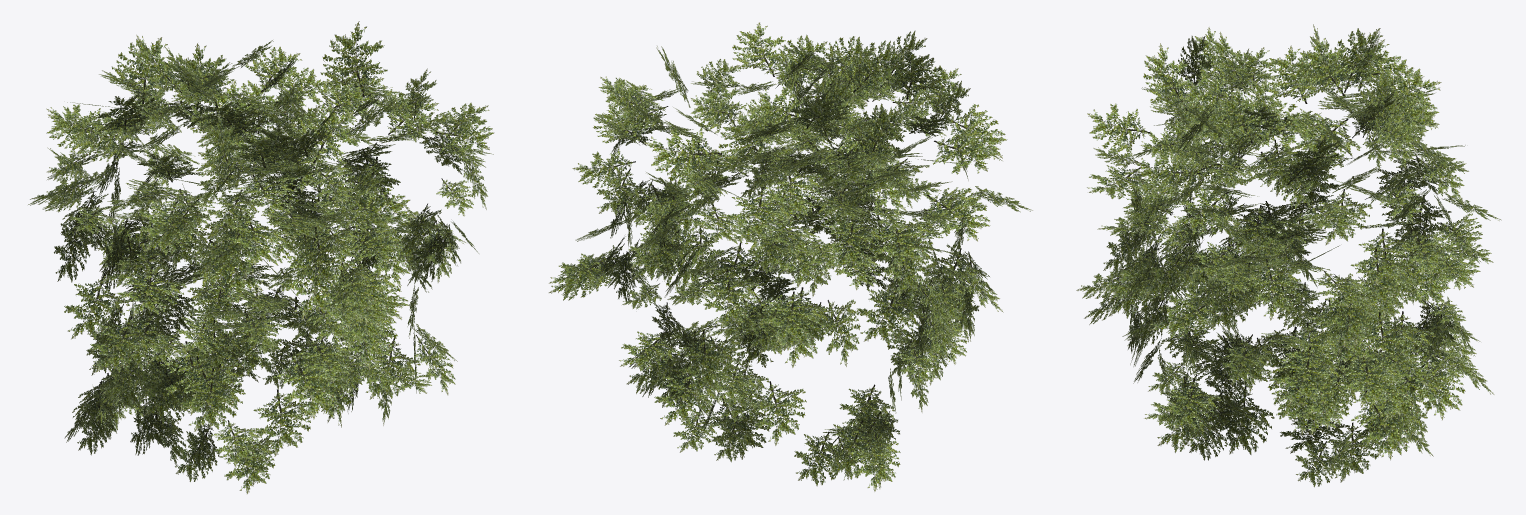
The model's file is leaves.dae.
3 views of the same model, side by side, from view 1: azimuth 30°, elevation 25°; view 2: azimuth 150°, elevation 25°; view 3: azimuth 270°, elevation 25° (orthographic). The views are drawn at different scales.
Parts seen in each view (by area): view 1: leaves; view 2: leaves; view 3: leaves.
Part boxes in pixels (x1,y1,x2,y2): leaves: [28, 21, 494, 494]; leaves: [548, 22, 1032, 491]; leaves: [1076, 24, 1501, 487].
Bounding box in the file's own units: 17.8 × 16.15 × 16.6.
Materials: 1 (1 with a texture image).
